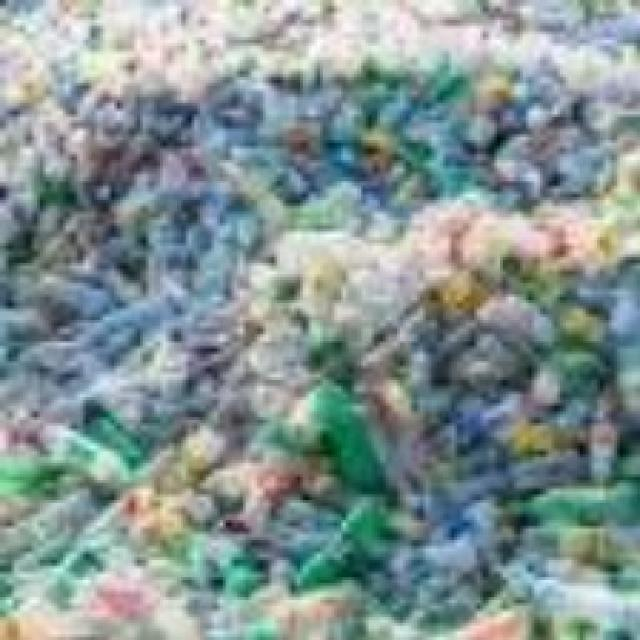heap: (253, 206, 640, 640)
plastic_bottle: (289, 490, 383, 590), (504, 478, 640, 534)
